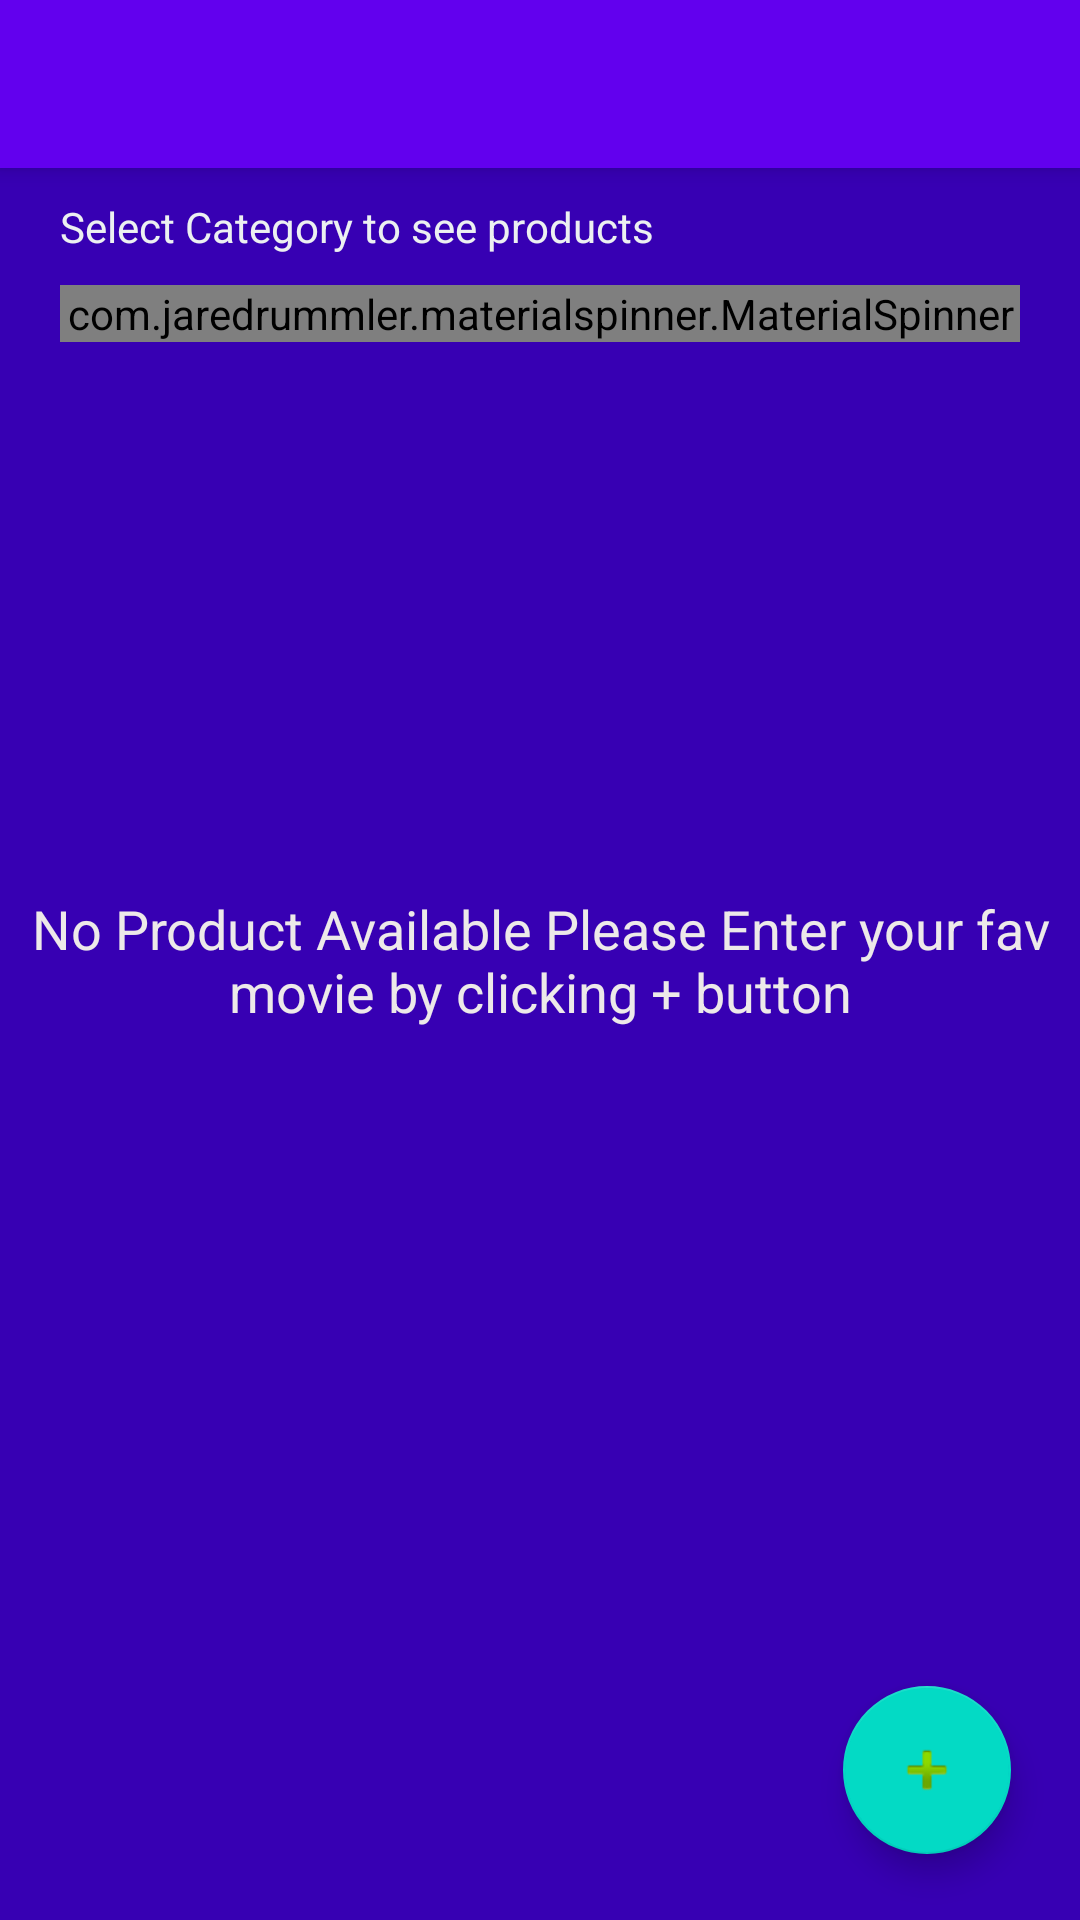

Where to tap for icons on this 1080*1920 app screen, as point (x, y):
add: point (927, 1770)
